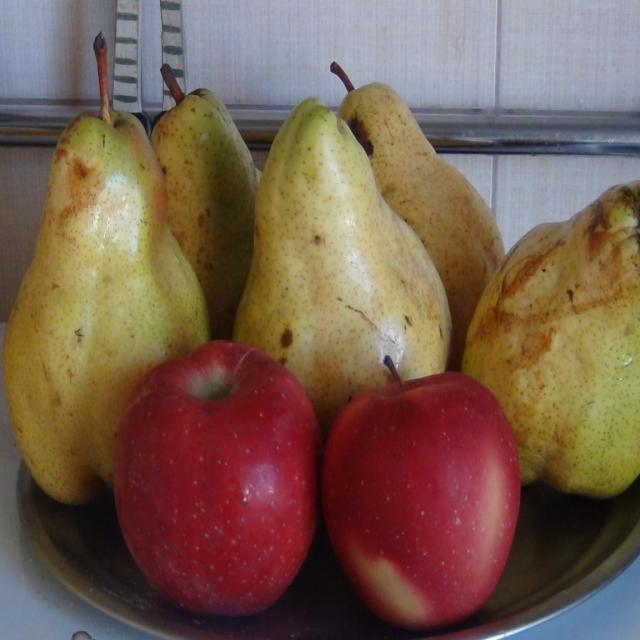apple: (116, 340, 321, 621), (322, 368, 520, 632)
pear: (0, 107, 211, 506), (230, 93, 452, 436), (461, 183, 639, 504), (334, 79, 506, 375), (148, 87, 264, 325)
